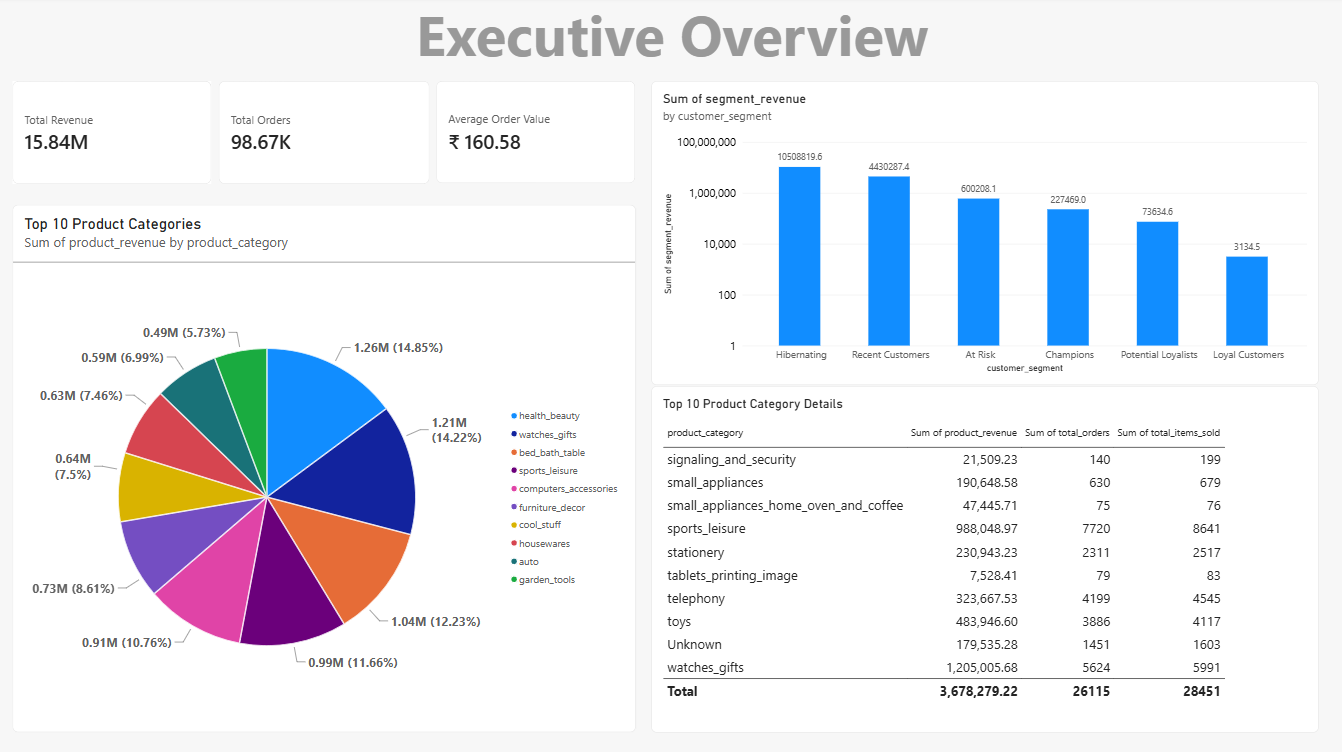

What the dashboard file says about the page in this screenshot:
{"tool":"powerbi","page":{"name":"Page 1","canvas":[1920,1080],"ordinal":0},"visuals":[{"type":"group","id":"g1","title":"Group 1","box":[18.5,121.4,1866.9,930.4],"z":0},{"type":"cardVisual","fields":{"Data":["monthly_revenue_summary.Total Revenue"]},"box":[19.1,121.4,284,147.1],"z":0,"group":"g1"},{"type":"textbox","box":[0,0,1920.4,121.4],"z":1000},{"type":"cardVisual","fields":{"Data":["monthly_revenue_summary.Average Order Value"]},"box":[624.7,121.7,284.1,146.8],"z":1000,"group":"g1"},{"type":"cardVisual","fields":{"Data":["monthly_revenue_summary.Total Orders"]},"box":[312.7,121.7,301.8,147.3],"z":2000,"group":"g1"},{"type":"clusteredColumnChart","fields":{"Category":["customer_segment_summary.customer_segment"],"Y":["Sum(customer_segment_summary.segment_revenue)"]},"box":[931.7,121.7,953.7,434.6],"z":3000,"group":"g1"},{"type":"pieChart","title":"Top 10 Product Categories","fields":{"Category":["product_category_summary_mart.product_category"],"Y":["Sum(product_category_summary_mart.product_revenue)"]},"box":[18.5,297.9,890.3,753.3],"z":4000,"group":"g1"},{"type":"tableEx","title":"Top 10 Product Category Details","fields":{"Values":["product_category_summary_mart.product_category","Sum(product_category_summary_mart.product_revenue)","Sum(product_category_summary_mart.total_orders)","Sum(product_category_summary_mart.total_items_sold)"]},"box":[931.7,556.3,953.7,495.4],"z":5000,"group":"g1"}]}

Visuals, with their boxes in screenshot pixels (x1, y1, x2, y2), scaled from the page's 1920x1080 canvas onto the 1342x752 screenshot:
"Group 1" group: 13, 85, 1318, 732
cardVisual - monthly_revenue_summary.Total Revenue: 13, 85, 212, 187
textbox: 0, 0, 1341, 85
cardVisual - monthly_revenue_summary.Average Order Value: 437, 85, 635, 187
cardVisual - monthly_revenue_summary.Total Orders: 219, 85, 430, 187
clusteredColumnChart - customer_segment_summary.customer_segment x Sum(customer_segment_summary.segment_revenue): 651, 85, 1318, 387
"Top 10 Product Categories" pieChart: 13, 207, 635, 732
"Top 10 Product Category Details" tableEx: 651, 387, 1318, 732
